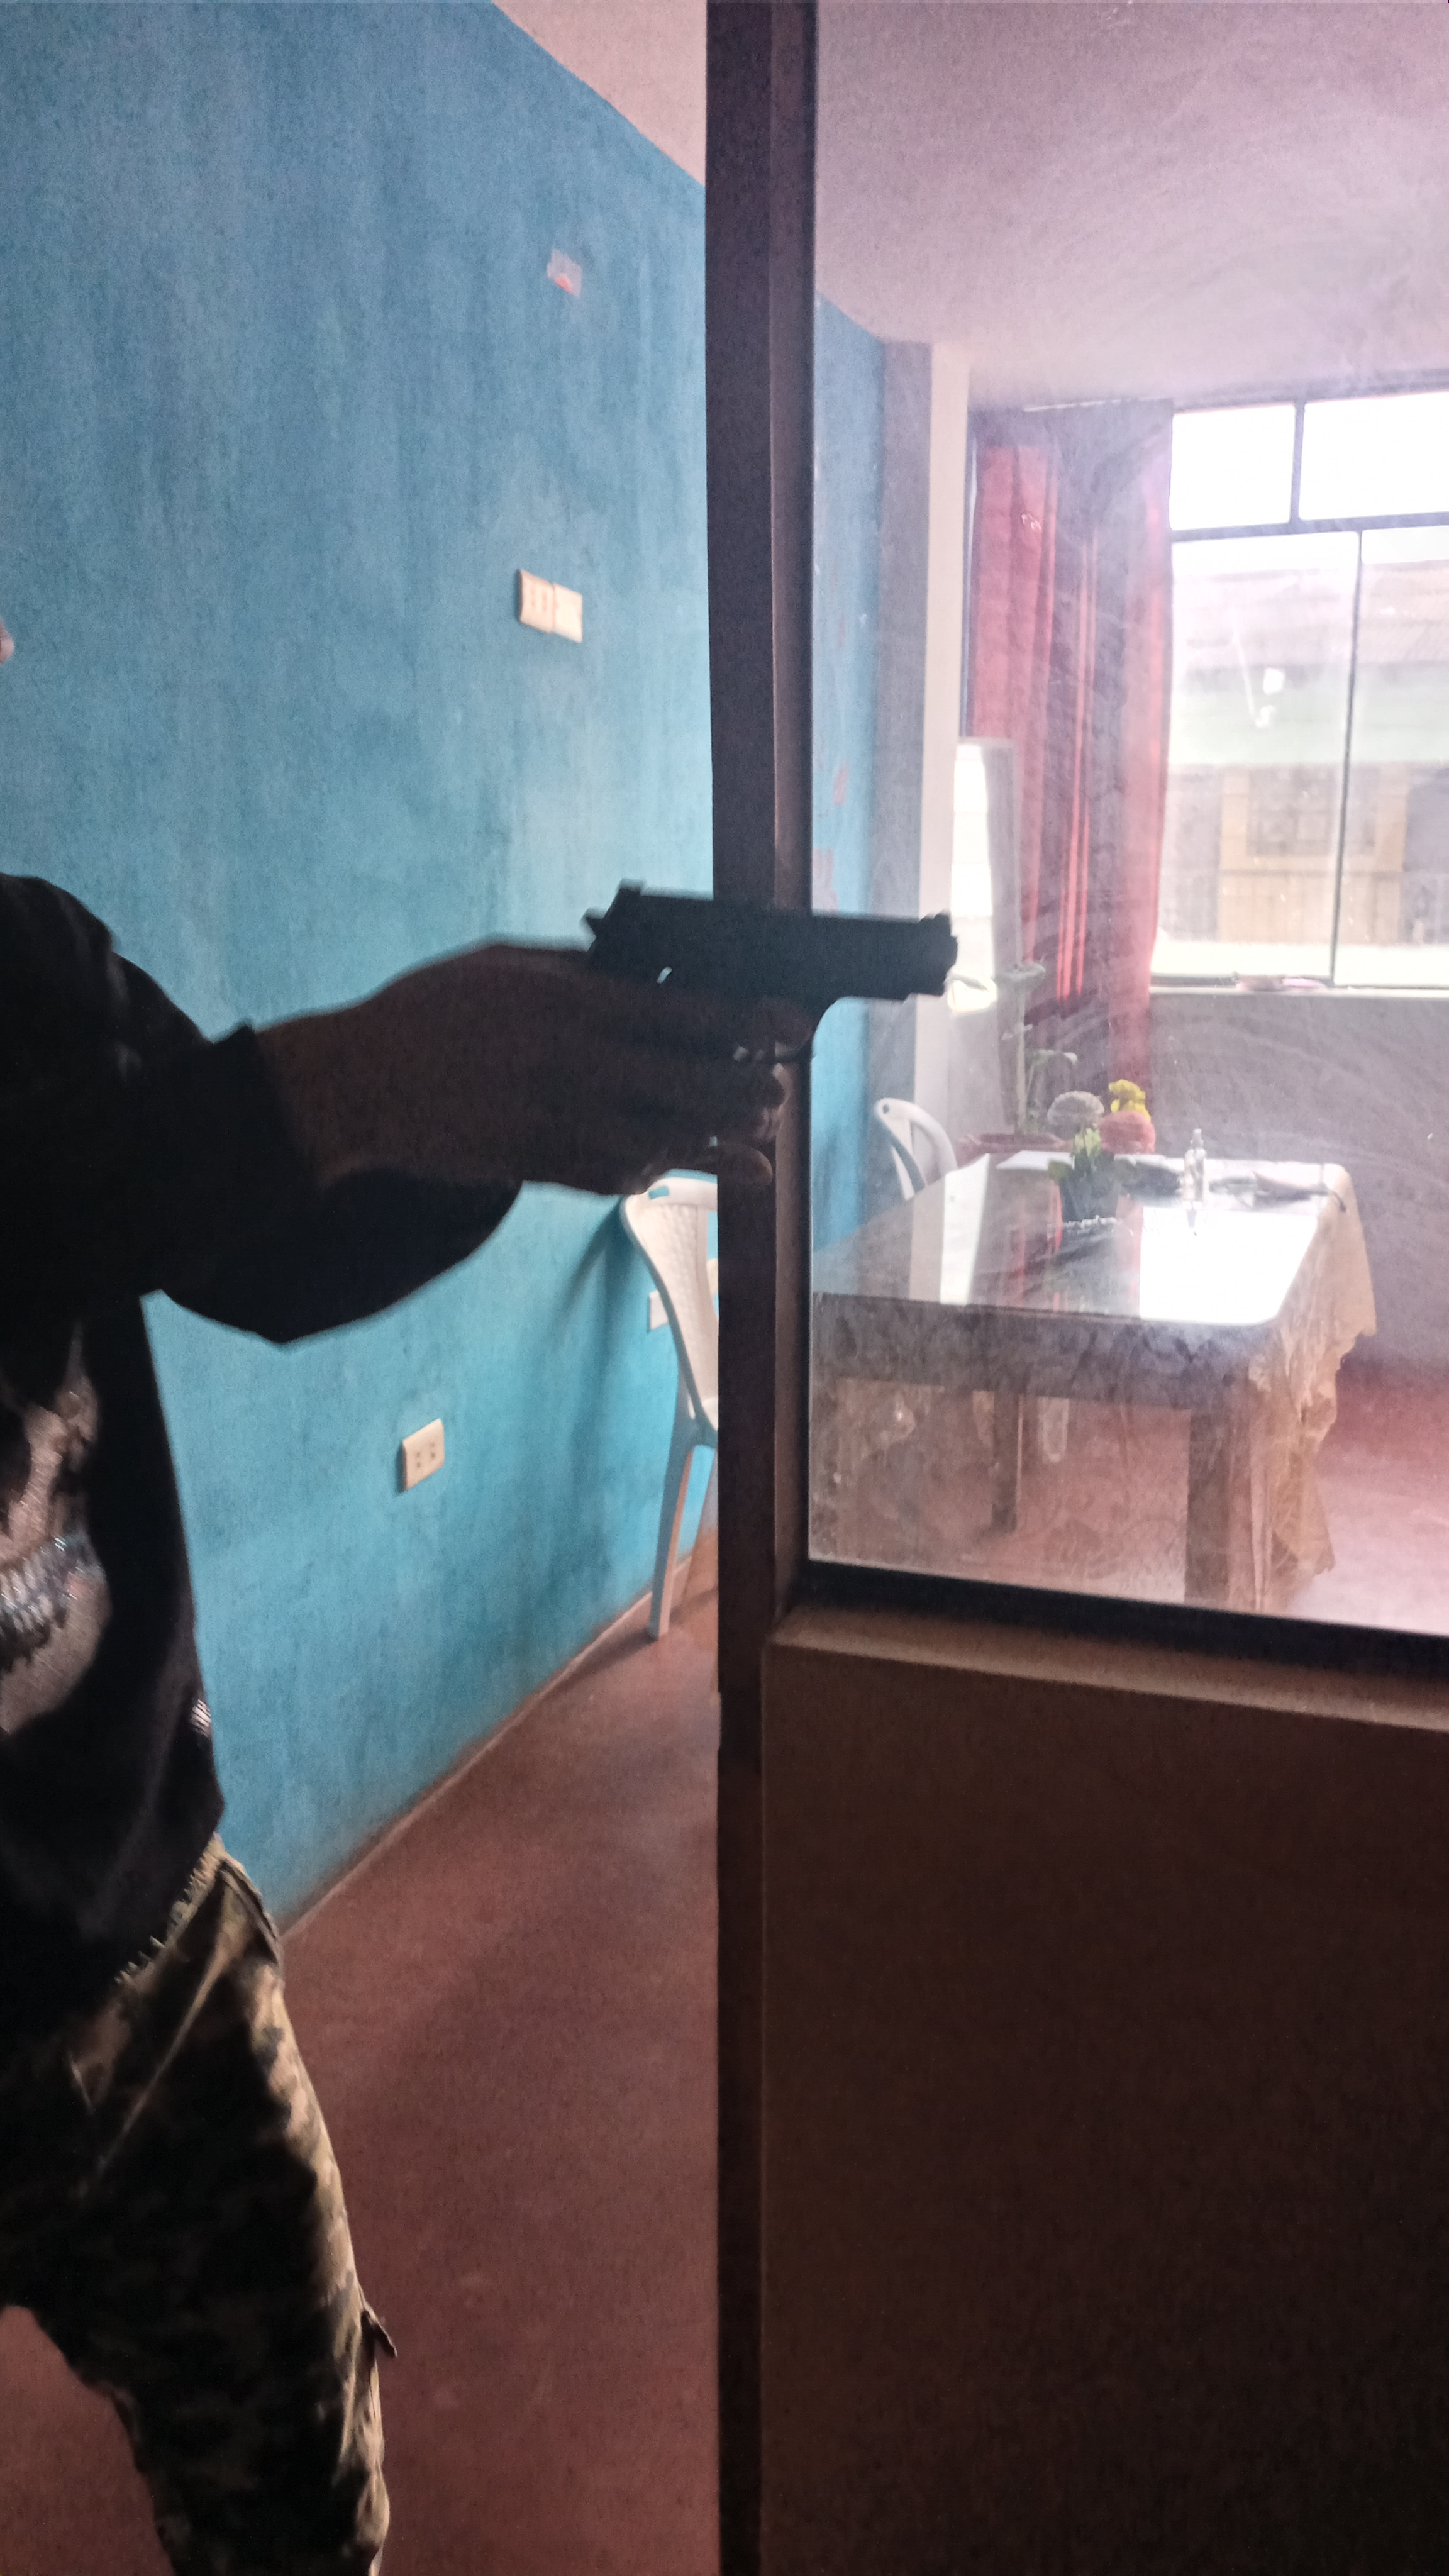Arma: (580, 879, 962, 1012)
